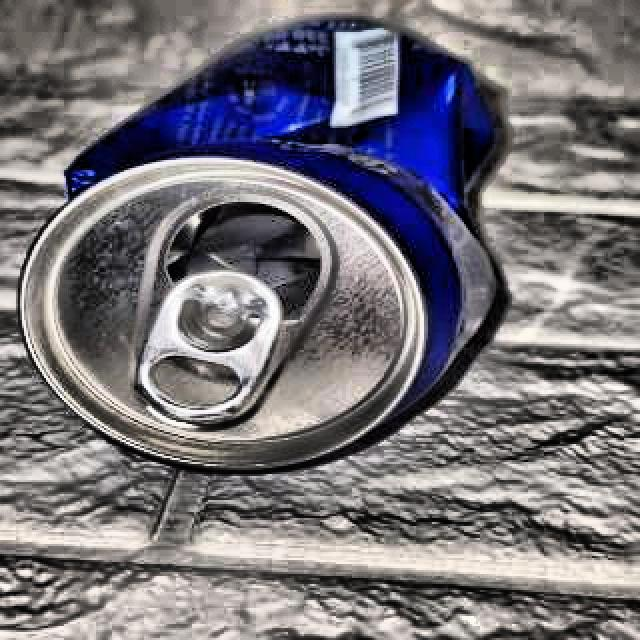metal: (14, 16, 518, 480)
